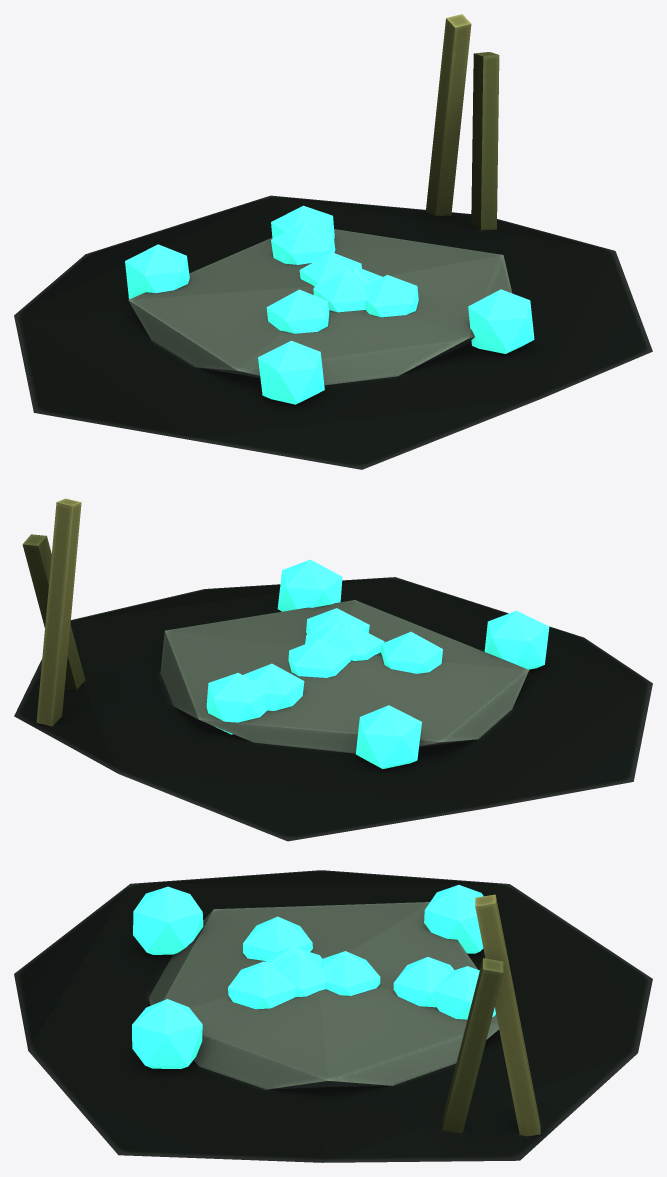
The model's file is sign_mother_eggs.glb.
3 views of the same model, one above another, from view 1: azimuth 30°, elevation 25°; view 2: azimuth 150°, elevation 25°; view 3: azimuth 270°, elevation 25° (orthographic). The views are drawn at different scales.
Visible parts, largest first — view 1: sign_mother_eggs; view 2: sign_mother_eggs; view 3: sign_mother_eggs.
Part boxes in pixels (bbox=[...]): sign_mother_eggs: bbox=[14, 14, 652, 469]; sign_mother_eggs: bbox=[14, 498, 652, 841]; sign_mother_eggs: bbox=[14, 870, 652, 1162].
Bounding box in the file's own units: 1.44 × 0.5452 × 1.23.
1 material, 1 textured.
